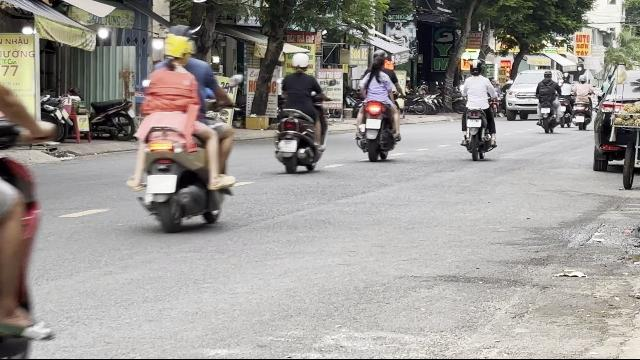helmet: (161, 34, 193, 66), (290, 52, 310, 72)
licenseplate: (148, 175, 176, 193), (280, 140, 296, 152), (366, 118, 380, 130)
motorcyclist: (126, 31, 238, 232), (272, 52, 328, 172), (352, 48, 403, 160)
nohelmet: (370, 56, 386, 75)
